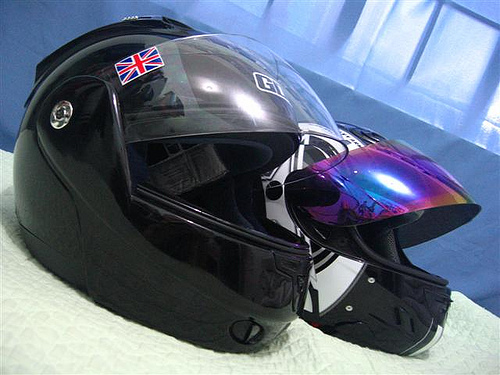helmet: (37, 34, 313, 316), (279, 101, 457, 345)
